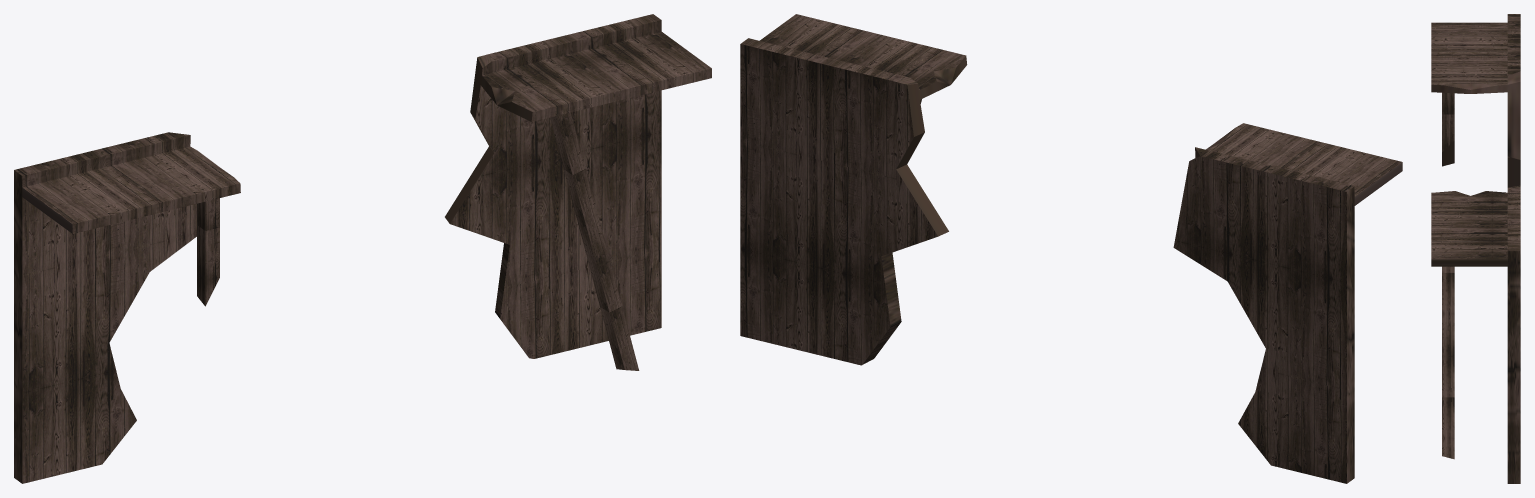
Rendered from ShortWallBroken.fbx.
The picture shows the model from 3 angles, left to right: view 1: azimuth 30°, elevation 25°; view 2: azimuth 150°, elevation 25°; view 3: azimuth 270°, elevation 25°; orthographic projection. The views are drawn at different scales.
Visible parts, largest first — view 1: ShortWallBroken; view 2: ShortWallBroken; view 3: ShortWallBroken.
Boxes of the visible parts, box(x1,y1,x2,y2) form: ShortWallBroken: box(14, 14, 711, 483); ShortWallBroken: box(740, 14, 1402, 483); ShortWallBroken: box(1431, 14, 1520, 483).
Bounding box in the file's own units: 2200 × 1012 × 350.
